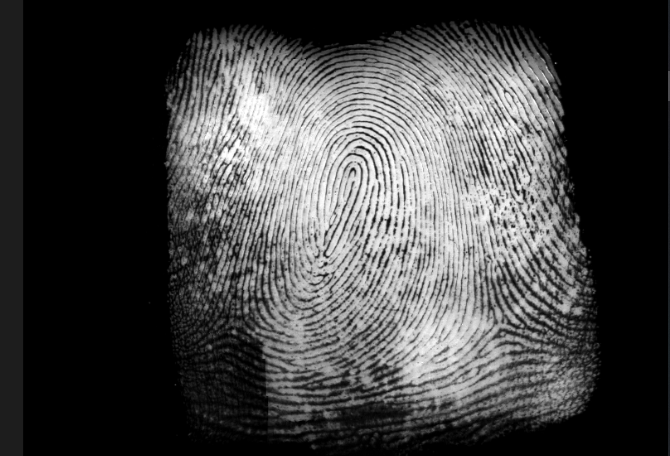deltas: (198, 281, 266, 348), (471, 303, 534, 356)
nucleo: (319, 138, 386, 205)
